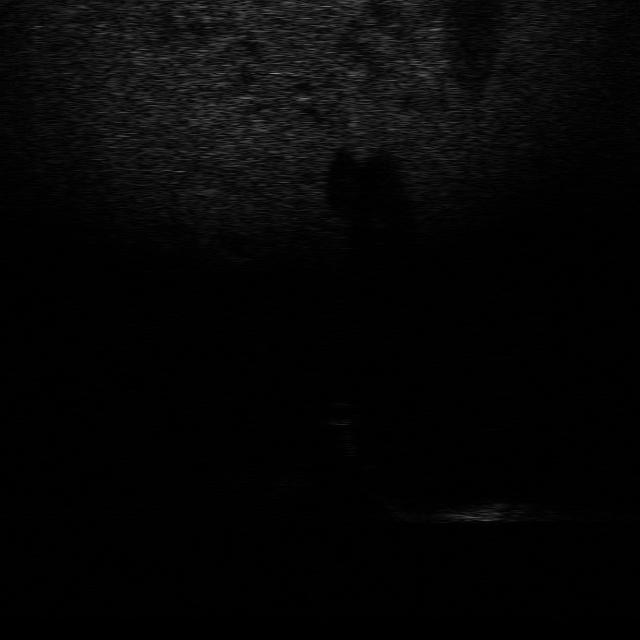ball: (317, 398, 365, 426)
metal bucket: (428, 494, 546, 525)
tyre: (350, 483, 419, 528)
